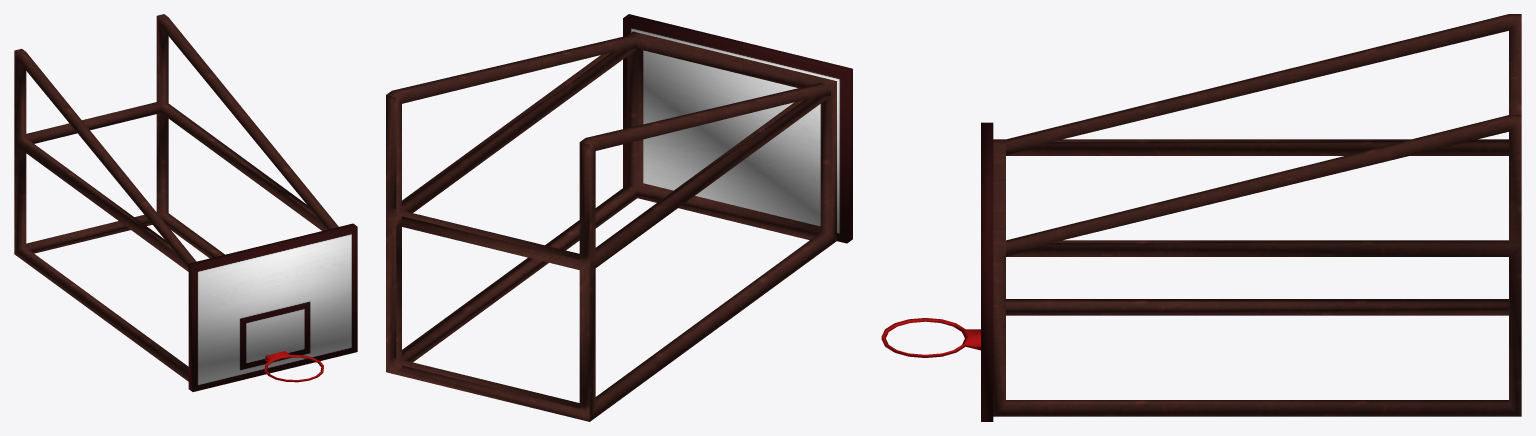
Rendered from basket01.fbx.
3 renders of one model, left to right at view 1: azimuth 30°, elevation 25°; view 2: azimuth 150°, elevation 25°; view 3: azimuth 270°, elevation 25°, orthographic. The views are drawn at different scales.
Parts seen in each view (by area): view 1: Cube, Cube_001; view 2: Cube, Cube_001; view 3: Cube, Cube_001.
Part boxes in pixels (x1,y1,x2,y2): Cube: [14, 14, 338, 381]; Cube_001: [188, 223, 357, 391]; Cube: [386, 31, 836, 421]; Cube_001: [623, 14, 852, 243]; Cube: [993, 14, 1521, 416]; Cube_001: [881, 122, 993, 421].
Size of the model in its own units: 2.2 by 2.95 by 5.09.
